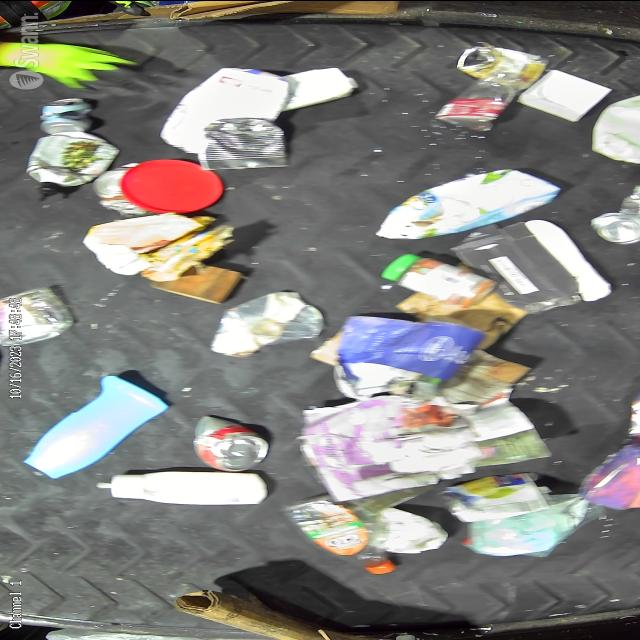can: (199, 116, 291, 172), (194, 416, 273, 470), (24, 136, 104, 184), (454, 46, 538, 84), (44, 98, 88, 137)
plastic_bottle: (432, 66, 516, 124)
